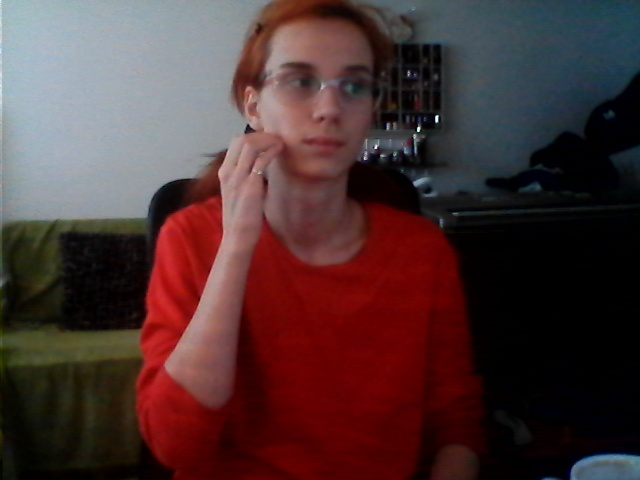dievca: (212, 110, 313, 254)
